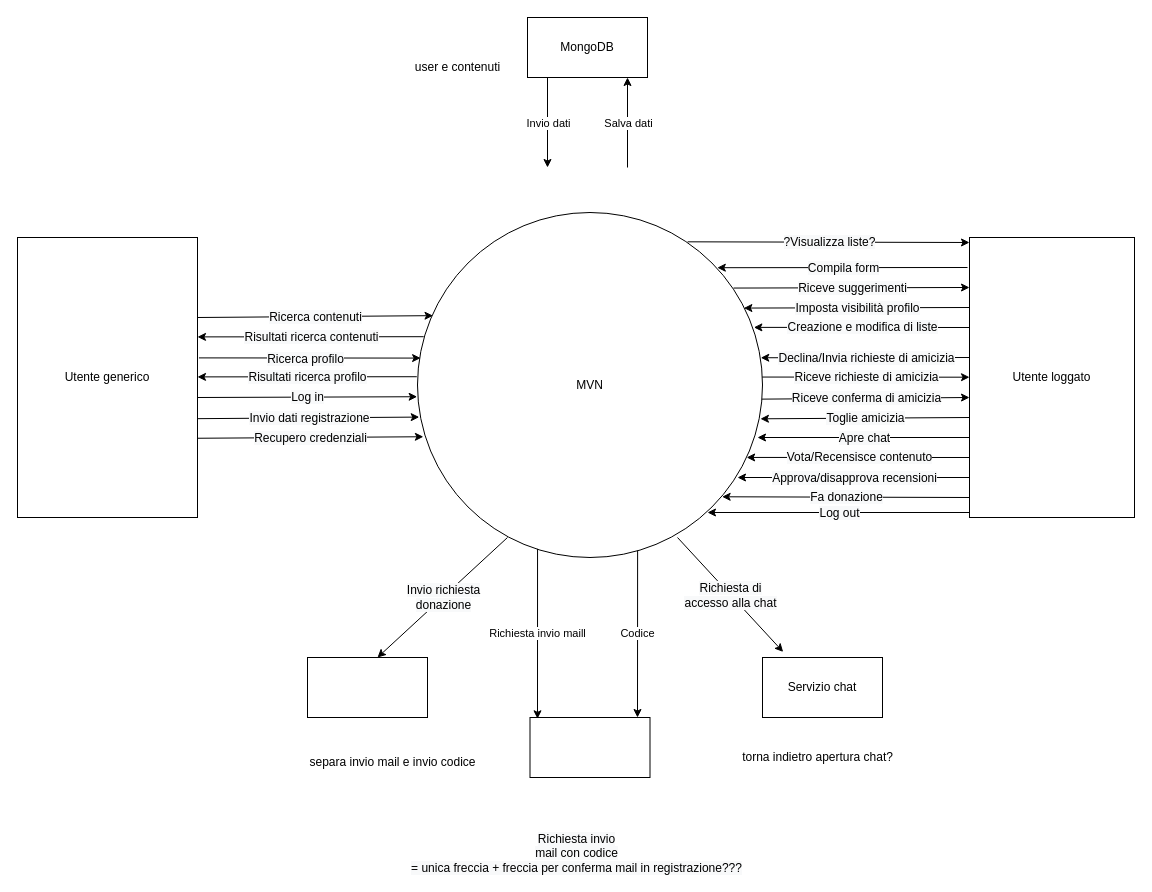
Image size: 1152x892. Some labels were removed from this diagram. The centre of each missing label's shape, as x and y in pixels:
Gmail: the point at 589,747
Paypal: the point at 367,687
